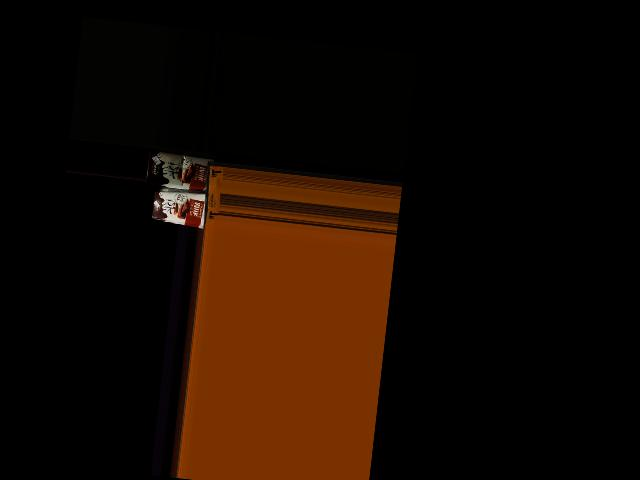chocolate: (149, 188, 213, 232)
